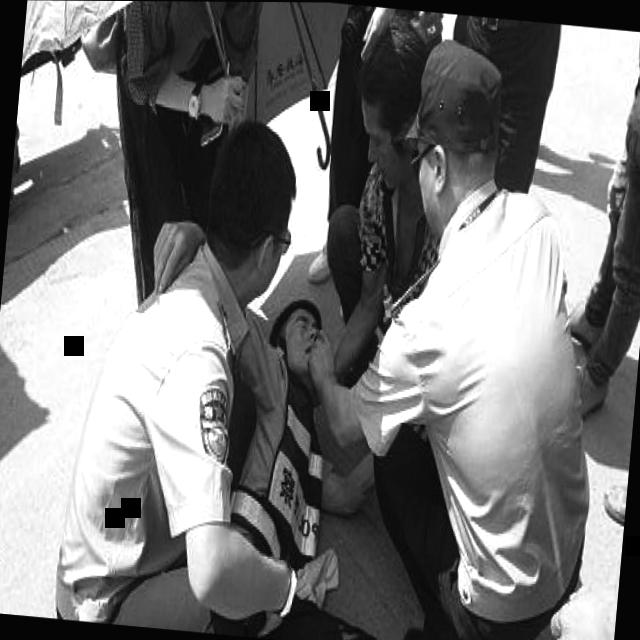Fall-Detected: (197, 245, 403, 640)
